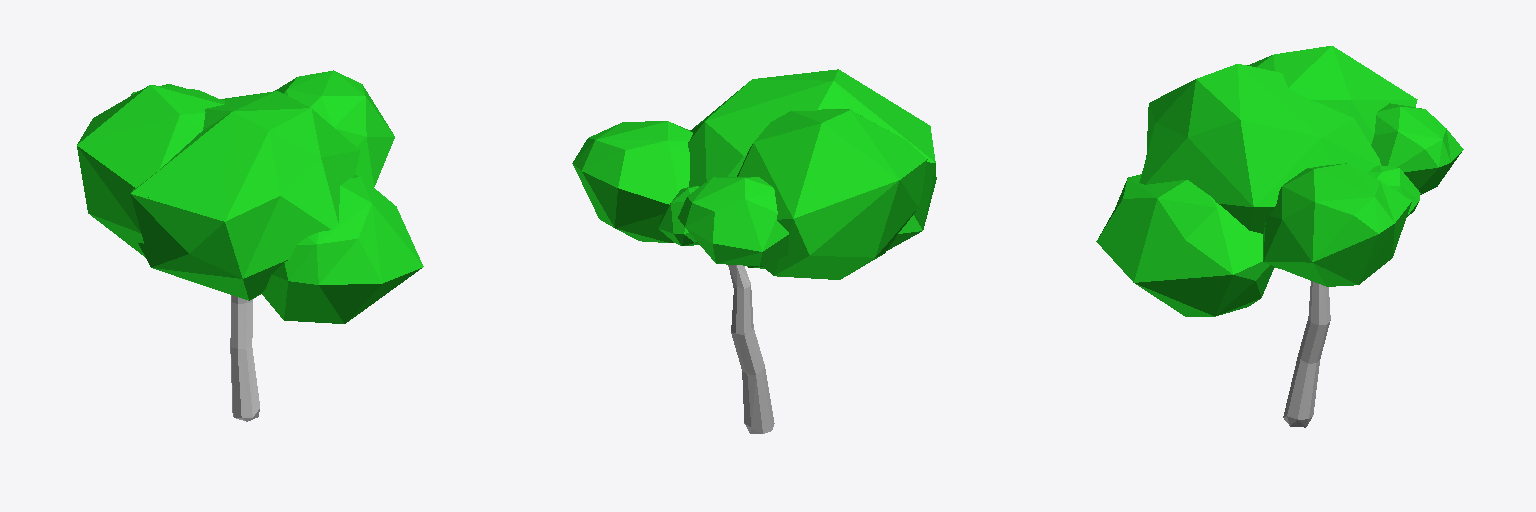
3 renders of one model, left to right at view 1: azimuth 30°, elevation 25°; view 2: azimuth 150°, elevation 25°; view 3: azimuth 270°, elevation 25°, orthographic.
Parts seen in each view (by area): view 1: Icosphere.005, Icosphere.004, Icosphere.003, Icosphere.001, Cube; view 2: Icosphere.003, Icosphere.005, Icosphere.001, Icosphere, Cube, Icosphere.002; view 3: Icosphere.005, Icosphere.004, Icosphere.001, Icosphere.003, Icosphere, Cube, Icosphere.002.
Part boxes in pixels (x1,y1,x2,y2): Icosphere.005: (131, 91, 359, 300); Icosphere.004: (262, 177, 423, 323); Icosphere.003: (77, 85, 224, 257); Icosphere.001: (275, 70, 394, 186); Cube: (230, 295, 259, 421); Icosphere.003: (737, 109, 932, 279); Icosphere.005: (688, 69, 936, 268); Icosphere.001: (572, 121, 692, 242); Icosphere: (678, 177, 789, 266); Cube: (728, 265, 774, 433); Icosphere.002: (658, 186, 699, 245); Icosphere.005: (1139, 64, 1380, 268); Icosphere.004: (1096, 174, 1274, 316); Icosphere.001: (1263, 163, 1411, 286); Icosphere.003: (1247, 46, 1417, 143); Icosphere: (1371, 103, 1463, 194); Cube: (1283, 281, 1330, 427); Icosphere.002: (1368, 165, 1420, 216).
Size of the model in its own units: 26.23 by 27.65 by 26.83.
2 materials, 2 textured.